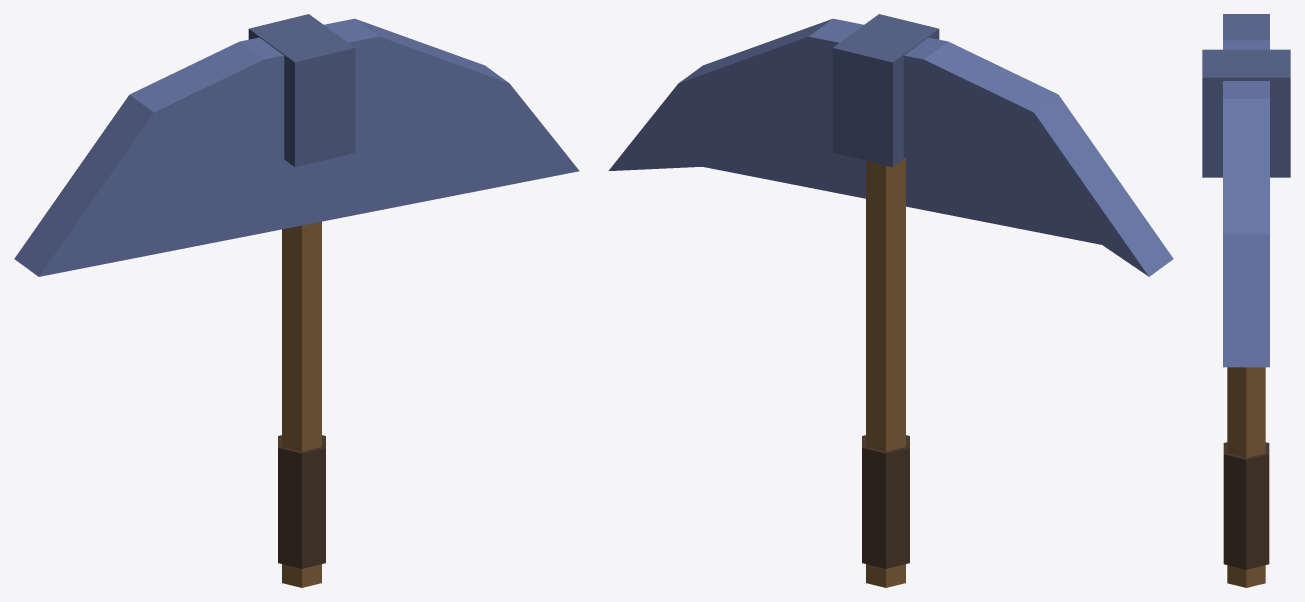
Rendered from mithrilPickaxe.glb.
The picture shows the model from 3 angles, left to right: view 1: azimuth 30°, elevation 25°; view 2: azimuth 150°, elevation 25°; view 3: azimuth 270°, elevation 25°; orthographic projection. The views are drawn at different scales.
Visible parts, largest first — view 1: mithrilPickaxe; view 2: mithrilPickaxe; view 3: mithrilPickaxe.
Part boxes in pixels (left/top/right/bottom): mithrilPickaxe: left=14, top=14, right=579, bottom=587; mithrilPickaxe: left=608, top=14, right=1173, bottom=587; mithrilPickaxe: left=1202, top=14, right=1290, bottom=587.
Bounding box in the file's own units: 1 × 0.9537 × 0.1481.
